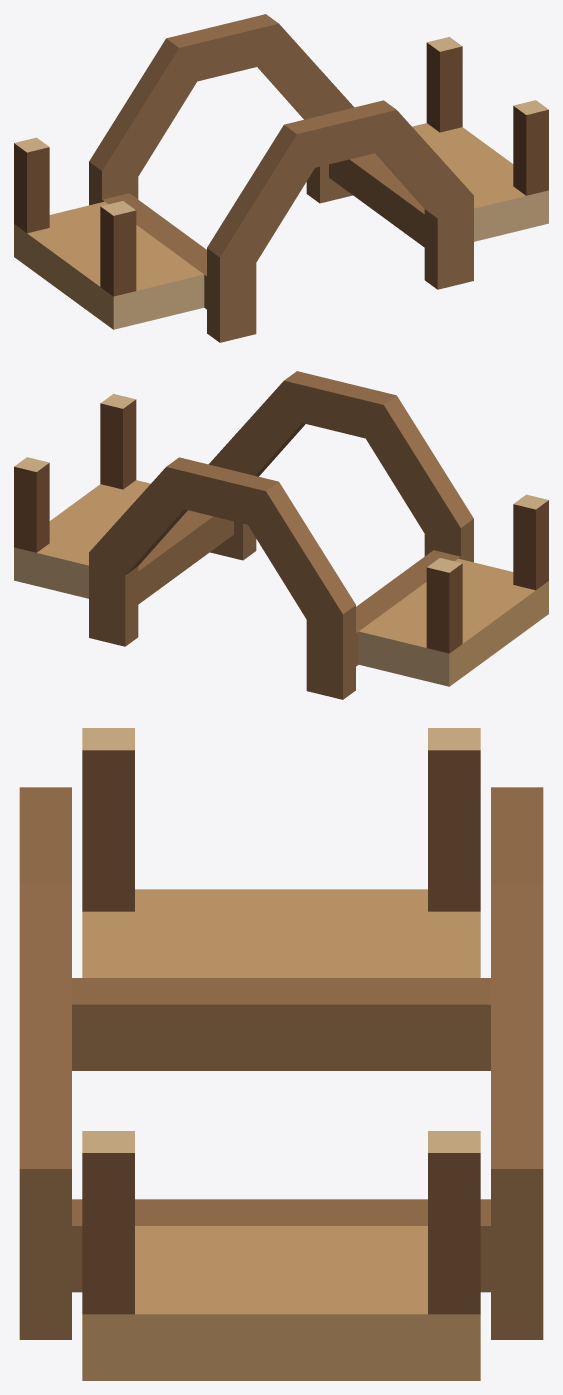
3 renders of one model, top to bottom at view 1: azimuth 30°, elevation 25°; view 2: azimuth 150°, elevation 25°; view 3: azimuth 270°, elevation 25°, orthographic. The views are drawn at different scales.
Visible parts, largest first — view 1: FrontWholeAngularYoke, RearWholeAngularYoke, OutboardCargoLedge_Left, OutboardCargoLedge_Right, LongitudinalSideRail_Right, RightFixedOuterHorn_Rear, LeftFixedOuterHorn_Front, LeftFixedOuterHorn_Rear, RightFixedOuterHorn_Front, LongitudinalSideRail_Left; view 2: RearWholeAngularYoke, FrontWholeAngularYoke, OutboardCargoLedge_Left, OutboardCargoLedge_Right, LongitudinalSideRail_Right, RightFixedOuterHorn_Front, LeftFixedOuterHorn_Rear, LeftFixedOuterHorn_Front, RightFixedOuterHorn_Rear, LongitudinalSideRail_Left; view 3: OutboardCargoLedge_Right, LongitudinalSideRail_Left, OutboardCargoLedge_Left, FrontWholeAngularYoke, RearWholeAngularYoke, LongitudinalSideRail_Right, LeftFixedOuterHorn_Front, LeftFixedOuterHorn_Rear, RightFixedOuterHorn_Front, RightFixedOuterHorn_Rear.
Part boxes in pixels (bbox=[...]): FrontWholeAngularYoke: bbox=[207, 100, 473, 342]; RearWholeAngularYoke: bbox=[89, 14, 354, 205]; OutboardCargoLedge_Left: bbox=[14, 201, 204, 329]; OutboardCargoLedge_Right: bbox=[412, 123, 548, 241]; LongitudinalSideRail_Right: bbox=[329, 153, 424, 247]; RightFixedOuterHorn_Rear: bbox=[426, 37, 462, 132]; LeftFixedOuterHorn_Front: bbox=[100, 201, 136, 296]; LeftFixedOuterHorn_Rear: bbox=[14, 137, 49, 233]; RightFixedOuterHorn_Front: bbox=[513, 100, 548, 195]; LongitudinalSideRail_Left: bbox=[102, 193, 206, 309]; RearWholeAngularYoke: bbox=[89, 457, 355, 699]; FrontWholeAngularYoke: bbox=[208, 371, 473, 562]; OutboardCargoLedge_Left: bbox=[358, 558, 548, 686]; OutboardCargoLedge_Right: bbox=[14, 480, 150, 598]; LongitudinalSideRail_Right: bbox=[138, 510, 233, 604]; RightFixedOuterHorn_Front: bbox=[100, 394, 136, 489]; LeftFixedOuterHorn_Rear: bbox=[426, 558, 462, 653]; LeftFixedOuterHorn_Front: bbox=[513, 494, 548, 590]; RightFixedOuterHorn_Rear: bbox=[14, 457, 49, 552]; LongitudinalSideRail_Left: bbox=[356, 550, 460, 666]; OutboardCargoLedge_Right: bbox=[82, 1226, 480, 1380]; LongitudinalSideRail_Left: bbox=[72, 978, 490, 1070]; OutboardCargoLedge_Left: bbox=[82, 889, 480, 977]; FrontWholeAngularYoke: bbox=[19, 787, 71, 1339]; RearWholeAngularYoke: bbox=[491, 787, 543, 1339]; LongitudinalSideRail_Right: bbox=[72, 1199, 490, 1292]; LeftFixedOuterHorn_Front: bbox=[82, 728, 134, 911]; LeftFixedOuterHorn_Rear: bbox=[428, 728, 480, 911]; RightFixedOuterHorn_Front: bbox=[82, 1131, 134, 1314]; RightFixedOuterHorn_Rear: bbox=[428, 1131, 480, 1314].
Bounding box in the file's own units: 1.92 × 0.8 × 1.
